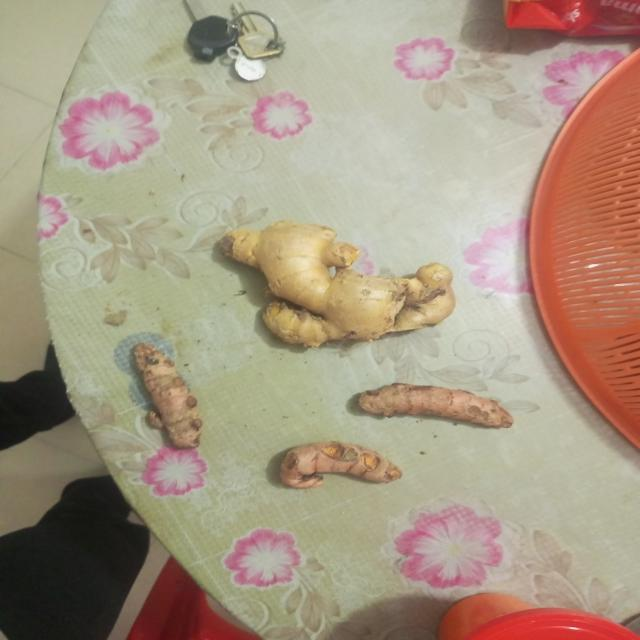ginger: (228, 226, 461, 338), (357, 380, 516, 432), (134, 342, 206, 445), (287, 441, 404, 488)
